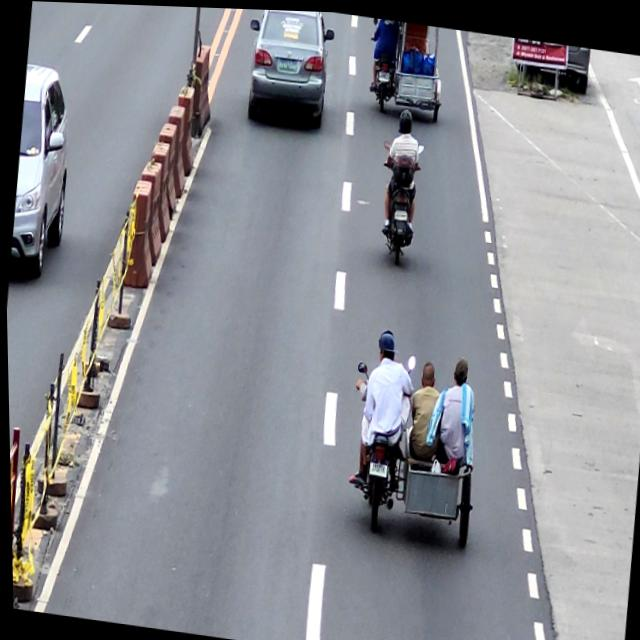Car: (239, 7, 338, 129)
License-Plate: (277, 55, 299, 71), (366, 459, 386, 475), (392, 207, 407, 218), (377, 67, 390, 78)
Motorcycle: (370, 136, 426, 265)
Tricycle: (339, 355, 485, 548), (363, 15, 449, 122)
